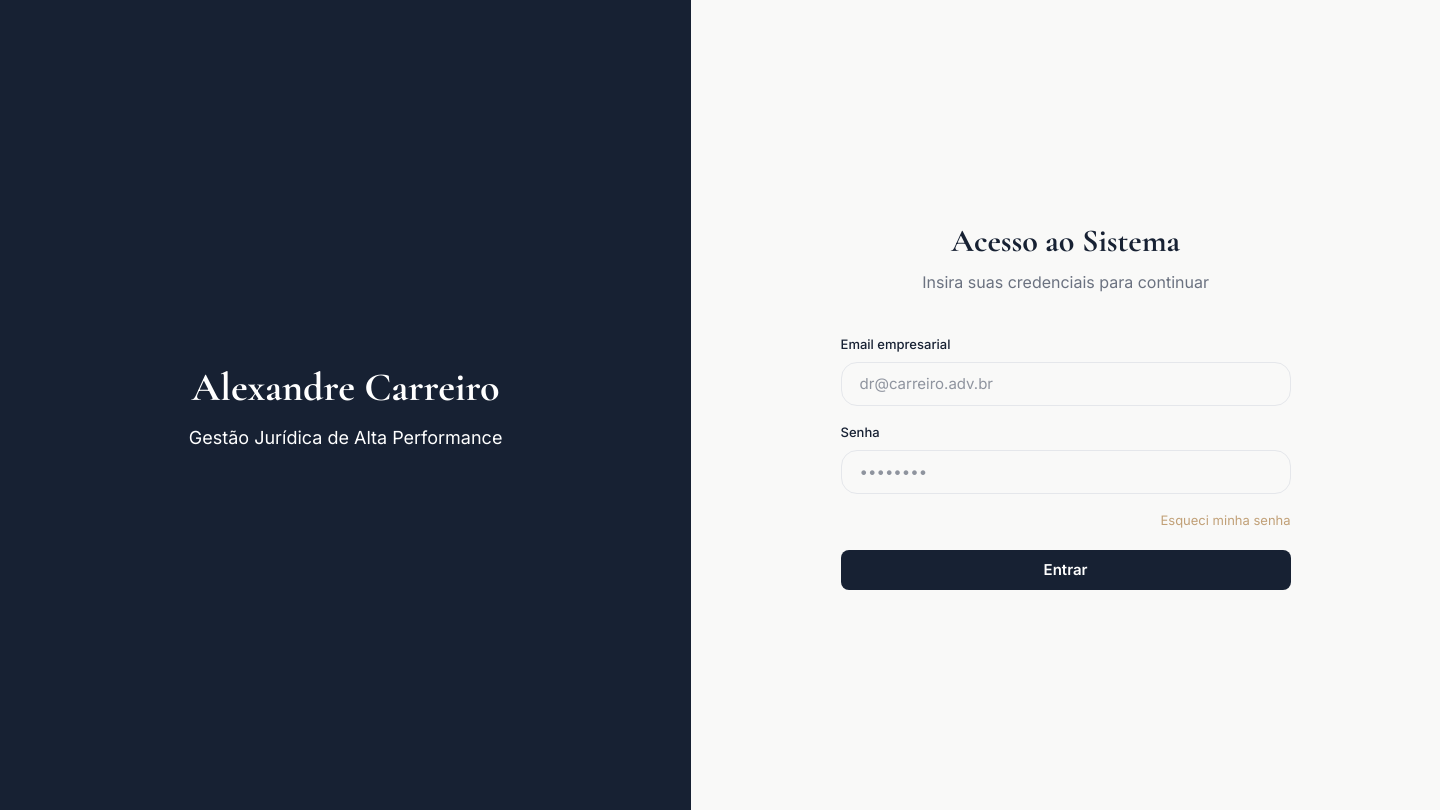
Test: Integração: Fluxo de Login (LoginPage + useLogin + AuthProvider + services/auth + fetch) › propaga e exibe na interface a mensagem quando POST /auth/login retorna erro 400 com campo message da API
Type "usuario@carreiro.adv.br" into the field labelled "Email empresarial". click: (1066, 384)
box: [841,362,1291,406]
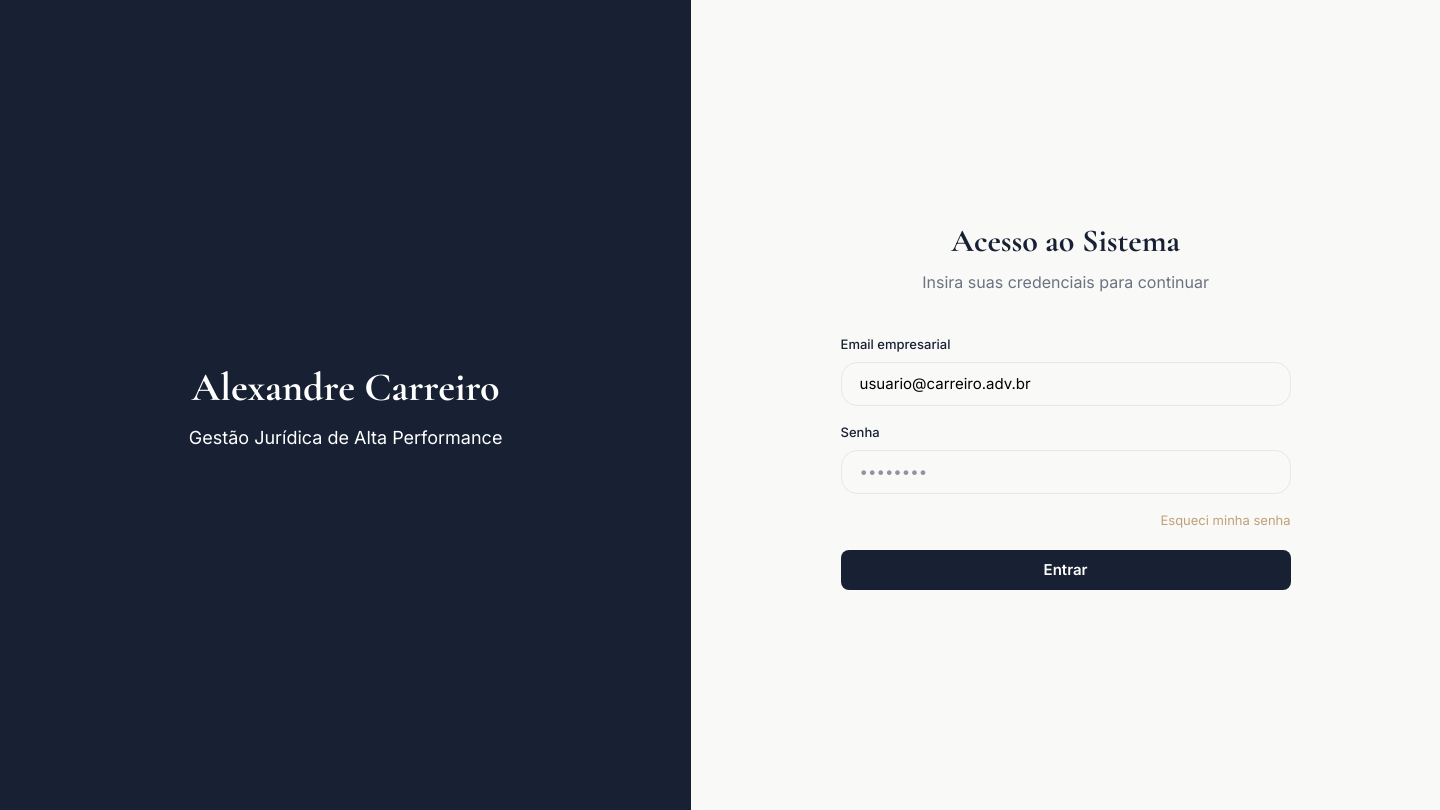
Type "senha-incorreta" into the password field labelled "Senha". click: (1066, 472)
box: [841,450,1291,494]
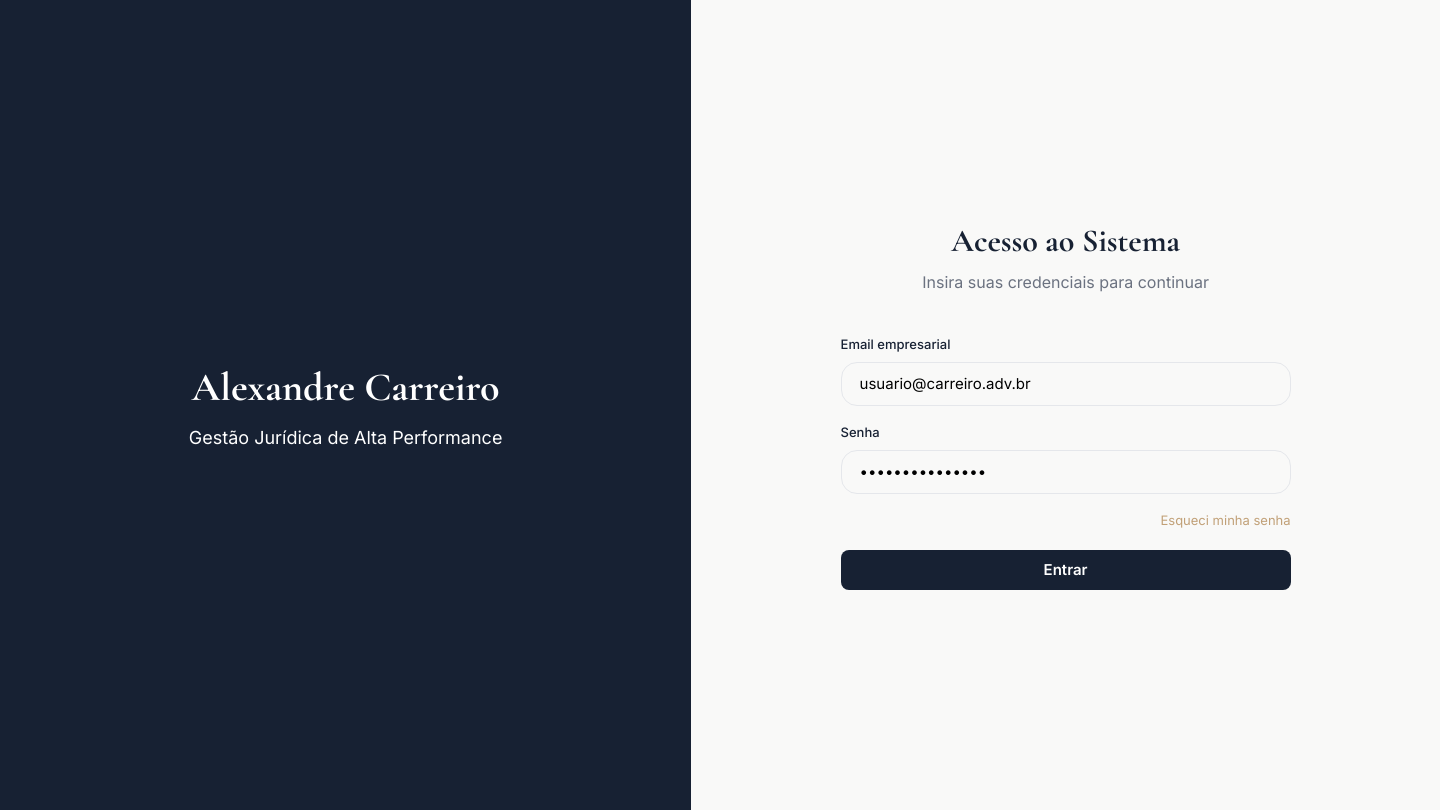
Click the button "Entrar". click: (1066, 570)
box: [841,550,1291,590]
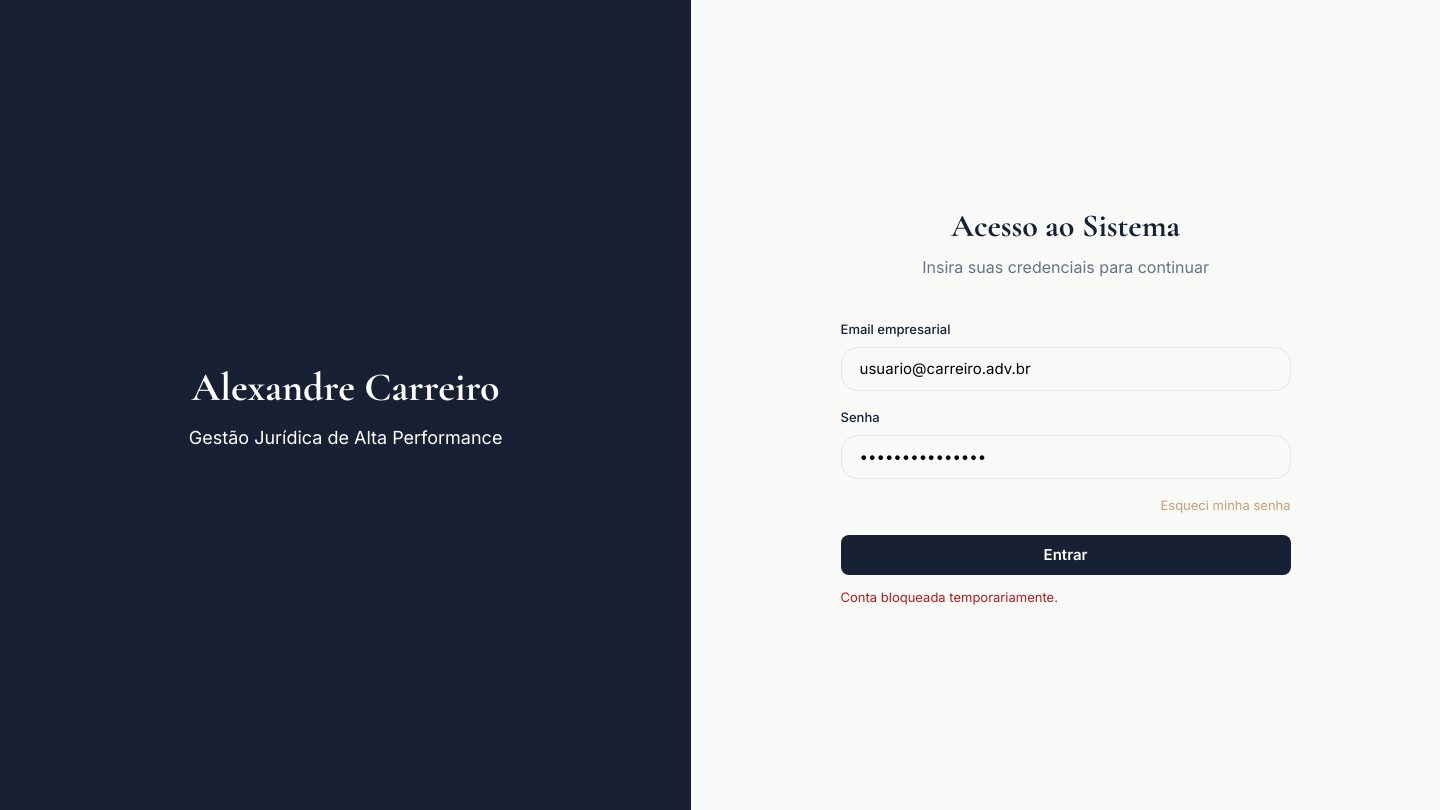
expect the text "Conta bloqueada temporariamente." is shown: met, box [841,588,1058,604]
